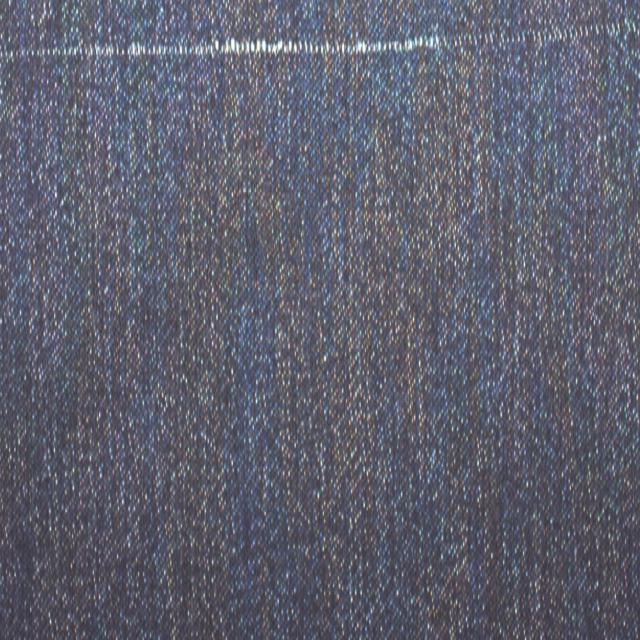Line: (0, 18, 628, 65)
